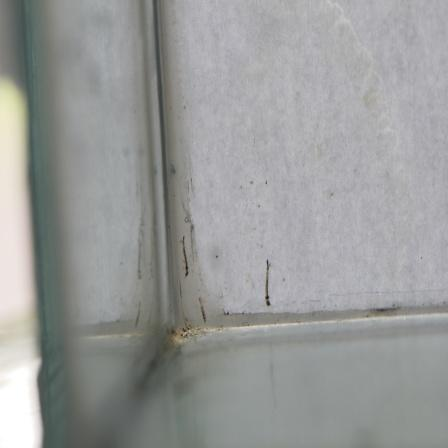Jentik-Nyamuk: (177, 233, 192, 281), (262, 255, 275, 310)
